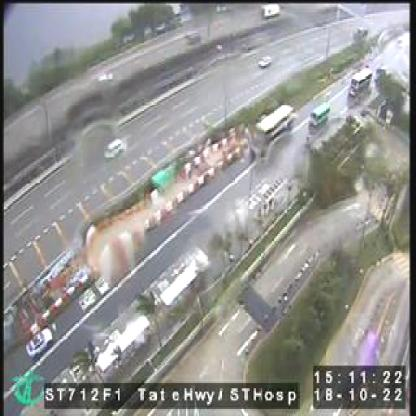Bus: (256, 102, 295, 156), (349, 67, 371, 101)
Car: (104, 137, 125, 162), (259, 53, 276, 69)
Minibus: (311, 101, 330, 130)
